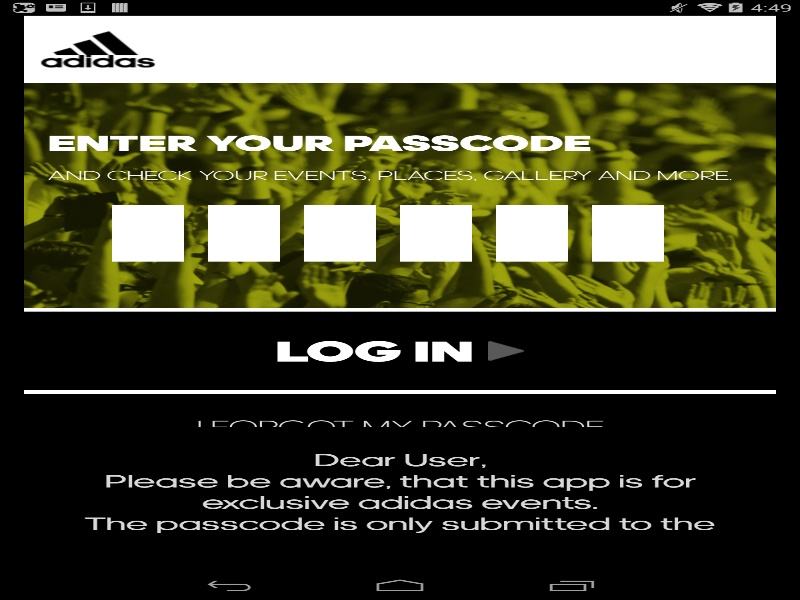Input: (112, 205, 184, 261), (208, 205, 280, 261), (304, 205, 376, 261), (400, 205, 472, 261), (496, 205, 568, 261), (592, 205, 664, 261)
